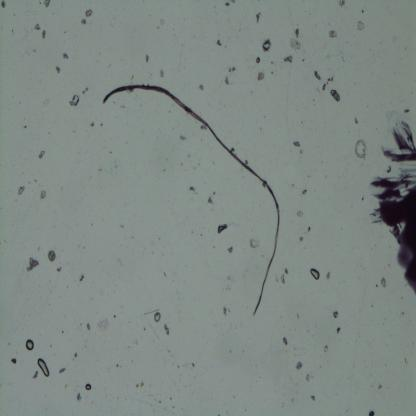Air bubble: (36, 356, 50, 378), (309, 268, 320, 280), (25, 338, 35, 351), (153, 311, 162, 323), (84, 383, 92, 391), (255, 56, 260, 64)
Background material: (287, 27, 303, 52), (354, 136, 368, 160), (260, 37, 273, 54), (26, 256, 40, 271), (215, 221, 229, 236), (247, 235, 261, 250), (81, 10, 94, 25), (130, 376, 146, 388), (322, 76, 334, 91), (34, 146, 45, 162), (331, 88, 342, 103), (282, 52, 293, 67), (280, 266, 289, 284), (69, 94, 80, 108), (47, 249, 57, 264), (162, 320, 170, 338), (327, 29, 340, 40), (356, 18, 365, 33), (186, 182, 196, 195), (295, 233, 306, 244), (294, 360, 304, 372), (178, 132, 189, 142), (292, 139, 302, 150), (32, 22, 43, 32), (314, 70, 324, 81), (9, 355, 18, 367), (77, 271, 86, 283), (15, 185, 25, 195), (38, 189, 47, 200), (379, 275, 386, 289), (257, 70, 265, 82), (196, 82, 206, 91), (304, 370, 312, 381), (334, 325, 342, 336), (82, 320, 90, 331), (332, 309, 340, 320), (255, 12, 262, 24), (353, 116, 360, 128), (44, 0, 52, 10), (61, 51, 69, 61), (222, 306, 230, 316), (41, 29, 47, 41), (227, 245, 235, 254), (58, 366, 67, 374), (304, 224, 312, 233), (54, 264, 63, 272), (216, 38, 223, 48), (0, 0, 7, 10), (325, 271, 332, 281), (54, 66, 62, 74), (338, 0, 346, 8), (282, 336, 288, 346), (207, 194, 213, 204), (323, 343, 328, 354), (310, 394, 316, 402), (224, 76, 230, 84), (296, 209, 302, 217), (191, 360, 197, 368), (227, 67, 236, 72), (302, 189, 308, 195), (368, 411, 376, 415), (378, 384, 382, 392)
Cotton: (102, 82, 280, 318)
Pen: (367, 115, 416, 296)
